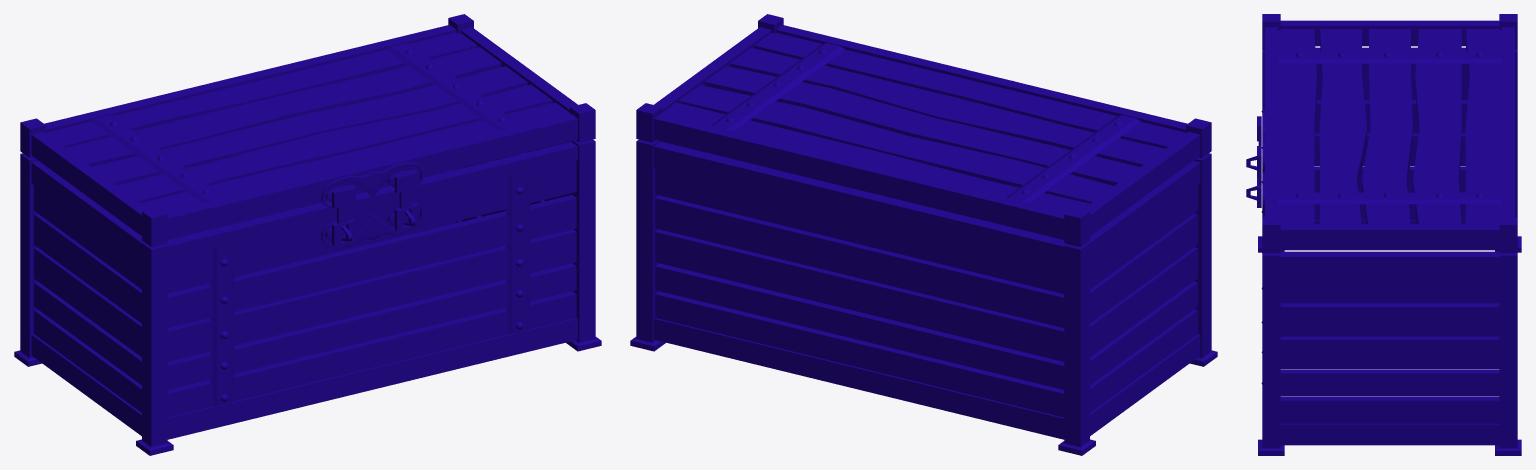
Rendered from CG_Model_TownInt_WorkChest_Mar24_ChrisMcknight.FBX.
The picture shows the model from 3 angles, left to right: view 1: azimuth 30°, elevation 25°; view 2: azimuth 150°, elevation 25°; view 3: azimuth 270°, elevation 25°; orthographic projection. The views are drawn at different scales.
Visible parts, largest first — view 1: Box014; view 2: Box014; view 3: Box014.
Boxes of the visible parts, left/top/right/bottom form: Box014: left=14, top=14, right=601, bottom=455; Box014: left=630, top=14, right=1217, bottom=455; Box014: left=1246, top=14, right=1521, bottom=455.
Bounding box in the file's own units: 21.78 × 10.84 × 11.81.
